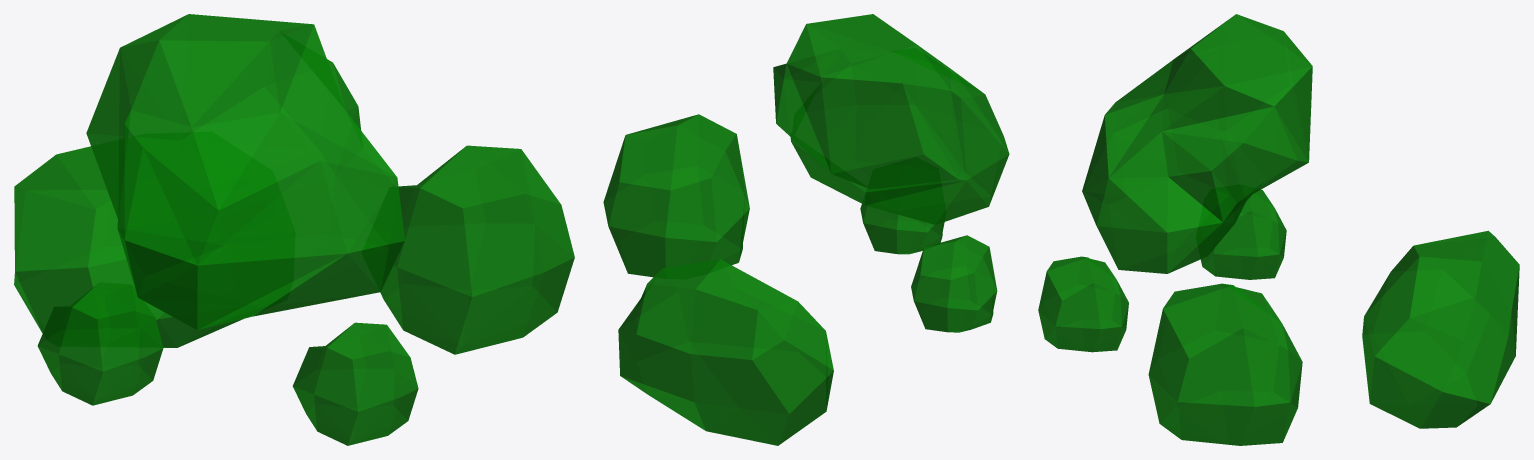
The model's file is albero1.fbx.
The picture shows the model from 3 angles, left to right: view 1: azimuth 30°, elevation 25°; view 2: azimuth 150°, elevation 25°; view 3: azimuth 270°, elevation 25°; orthographic projection. The views are drawn at different scales.
Visible parts, largest first — view 1: polySurface8, polySurface7, polySurface11, polySurface10, polySurface9; view 2: polySurface8, polySurface11, polySurface7, polySurface9, polySurface10; view 3: polySurface8, polySurface11, polySurface7, polySurface10, polySurface9.
Part boxes in pixels (box(x1,y1,x2,y2)): polySurface8: box(86, 14, 404, 330); polySurface7: box(380, 145, 574, 354); polySurface11: box(14, 146, 243, 347); polySurface10: box(292, 322, 418, 445); polySurface9: box(37, 282, 163, 405); polySurface8: box(773, 14, 1009, 224); polySurface11: box(618, 259, 833, 445); polySurface7: box(603, 114, 749, 277); polySurface9: box(911, 235, 997, 332); polySurface10: box(860, 203, 944, 254); polySurface8: box(1082, 14, 1312, 273); polySurface11: box(1362, 230, 1519, 428); polySurface7: box(1148, 283, 1302, 445); polySurface10: box(1038, 256, 1128, 352); polySurface9: box(1200, 189, 1286, 279).
Size of the model in its own units: 1160 by 947 by 1198.
